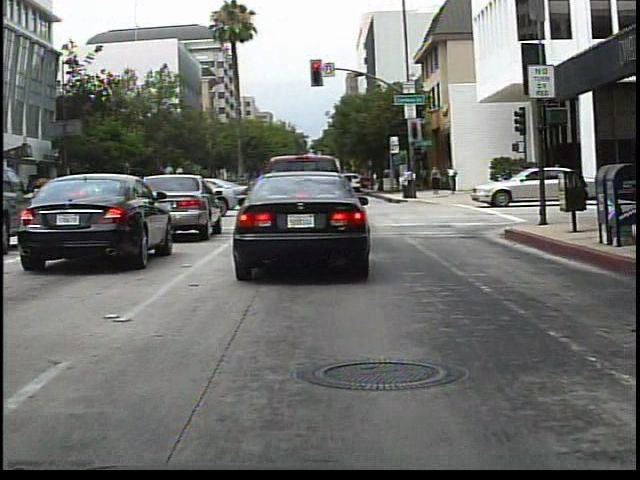person: (514, 156, 536, 199), (428, 160, 446, 199), (443, 162, 460, 197)
